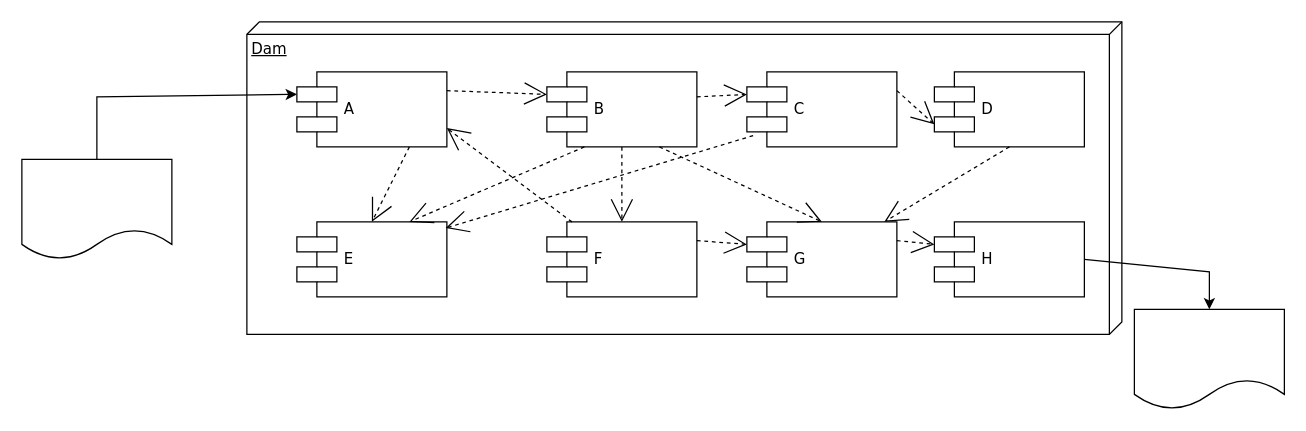
Some shapes in this 1306 by 431 pixel diagram are drawn without their labels. Each missing label, with the centre of its shape:
"Water In" belongs at point (96, 208).
"Water Out" belongs at point (1208, 358).
